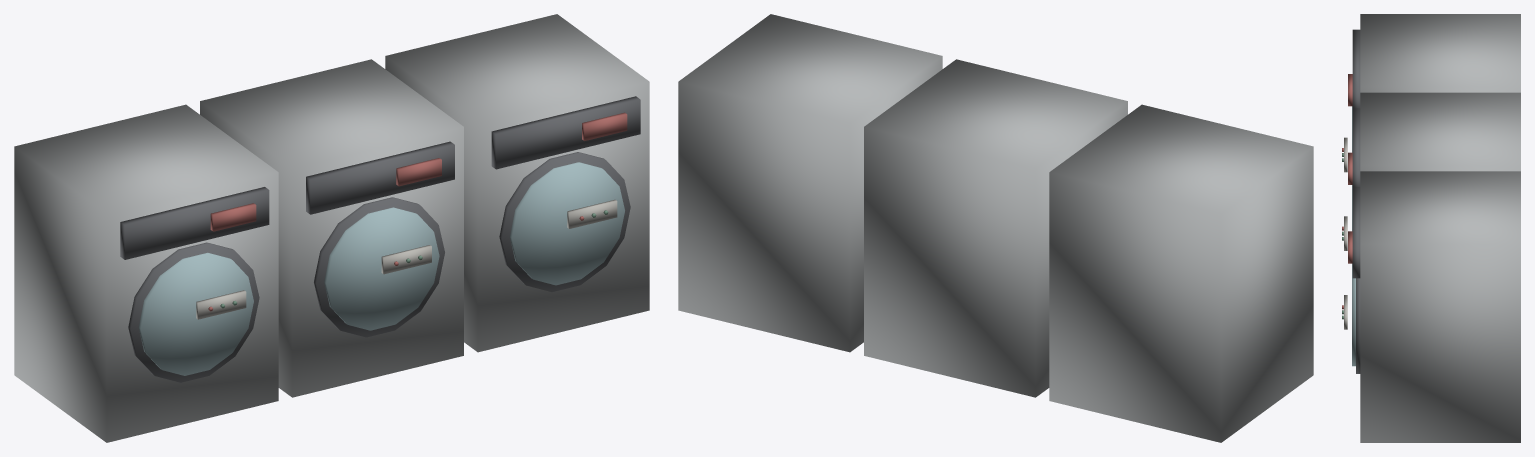
File: industrial_dryer__cluster.glb
3 views of the same model, side by side, from view 1: azimuth 30°, elevation 25°; view 2: azimuth 150°, elevation 25°; view 3: azimuth 270°, elevation 25° (orthographic). The views are drawn at different scales.
Visible parts, largest first — view 1: world; view 2: world; view 3: world.
Part boxes in pixels (left/top/right/bottom): world: left=14, top=14, right=649, bottom=442; world: left=678, top=14, right=1313, bottom=442; world: left=1342, top=14, right=1520, bottom=442.
Bounding box in the file's own units: 2.78 × 1.12 × 0.9135.
